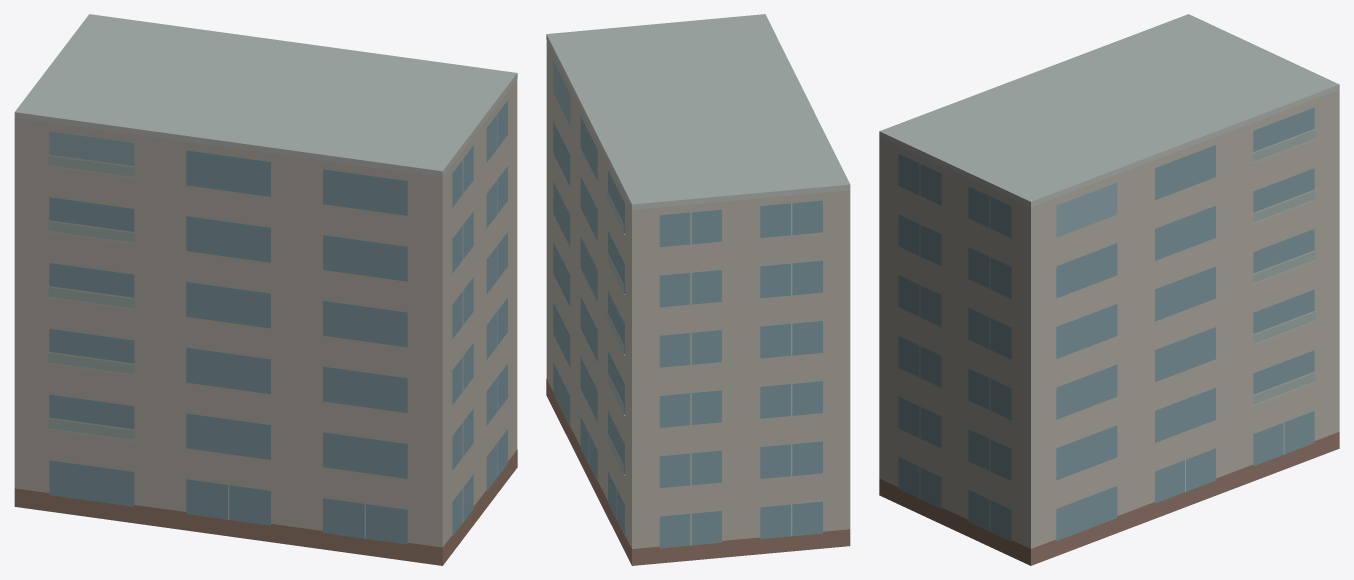
File: survey-upis-32987195.glb
3 views of the same model, side by side, from view 1: azimuth 30°, elevation 25°; view 2: azimuth 150°, elevation 25°; view 3: azimuth 270°, elevation 25° (orthographic). The views are drawn at different scales.
Parts seen in each view (by area): view 1: survey-upis-32987195.tmp; view 2: survey-upis-32987195.tmp; view 3: survey-upis-32987195.tmp.
Boxes of the visible parts, x1,y1,x2,y2 form: survey-upis-32987195.tmp: [14, 14, 517, 565]; survey-upis-32987195.tmp: [546, 14, 850, 565]; survey-upis-32987195.tmp: [879, 14, 1339, 565].
Bounding box in the file's own units: 18.05 × 16.3 × 18.69.
